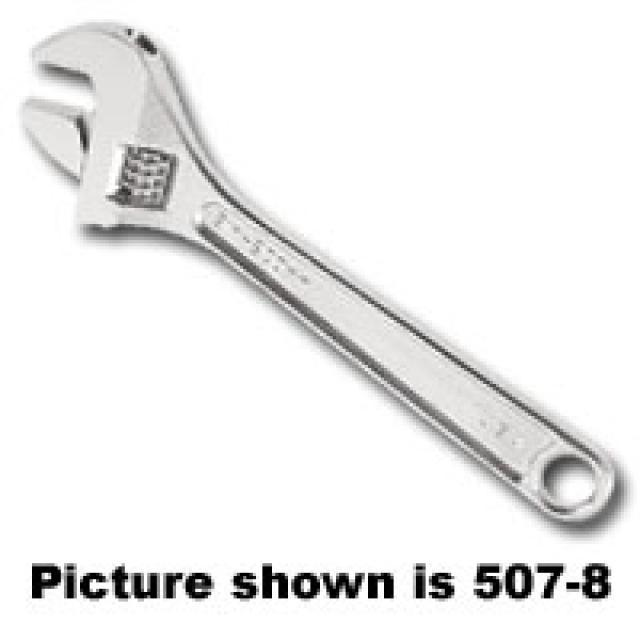wrench: (11, 8, 626, 538)
